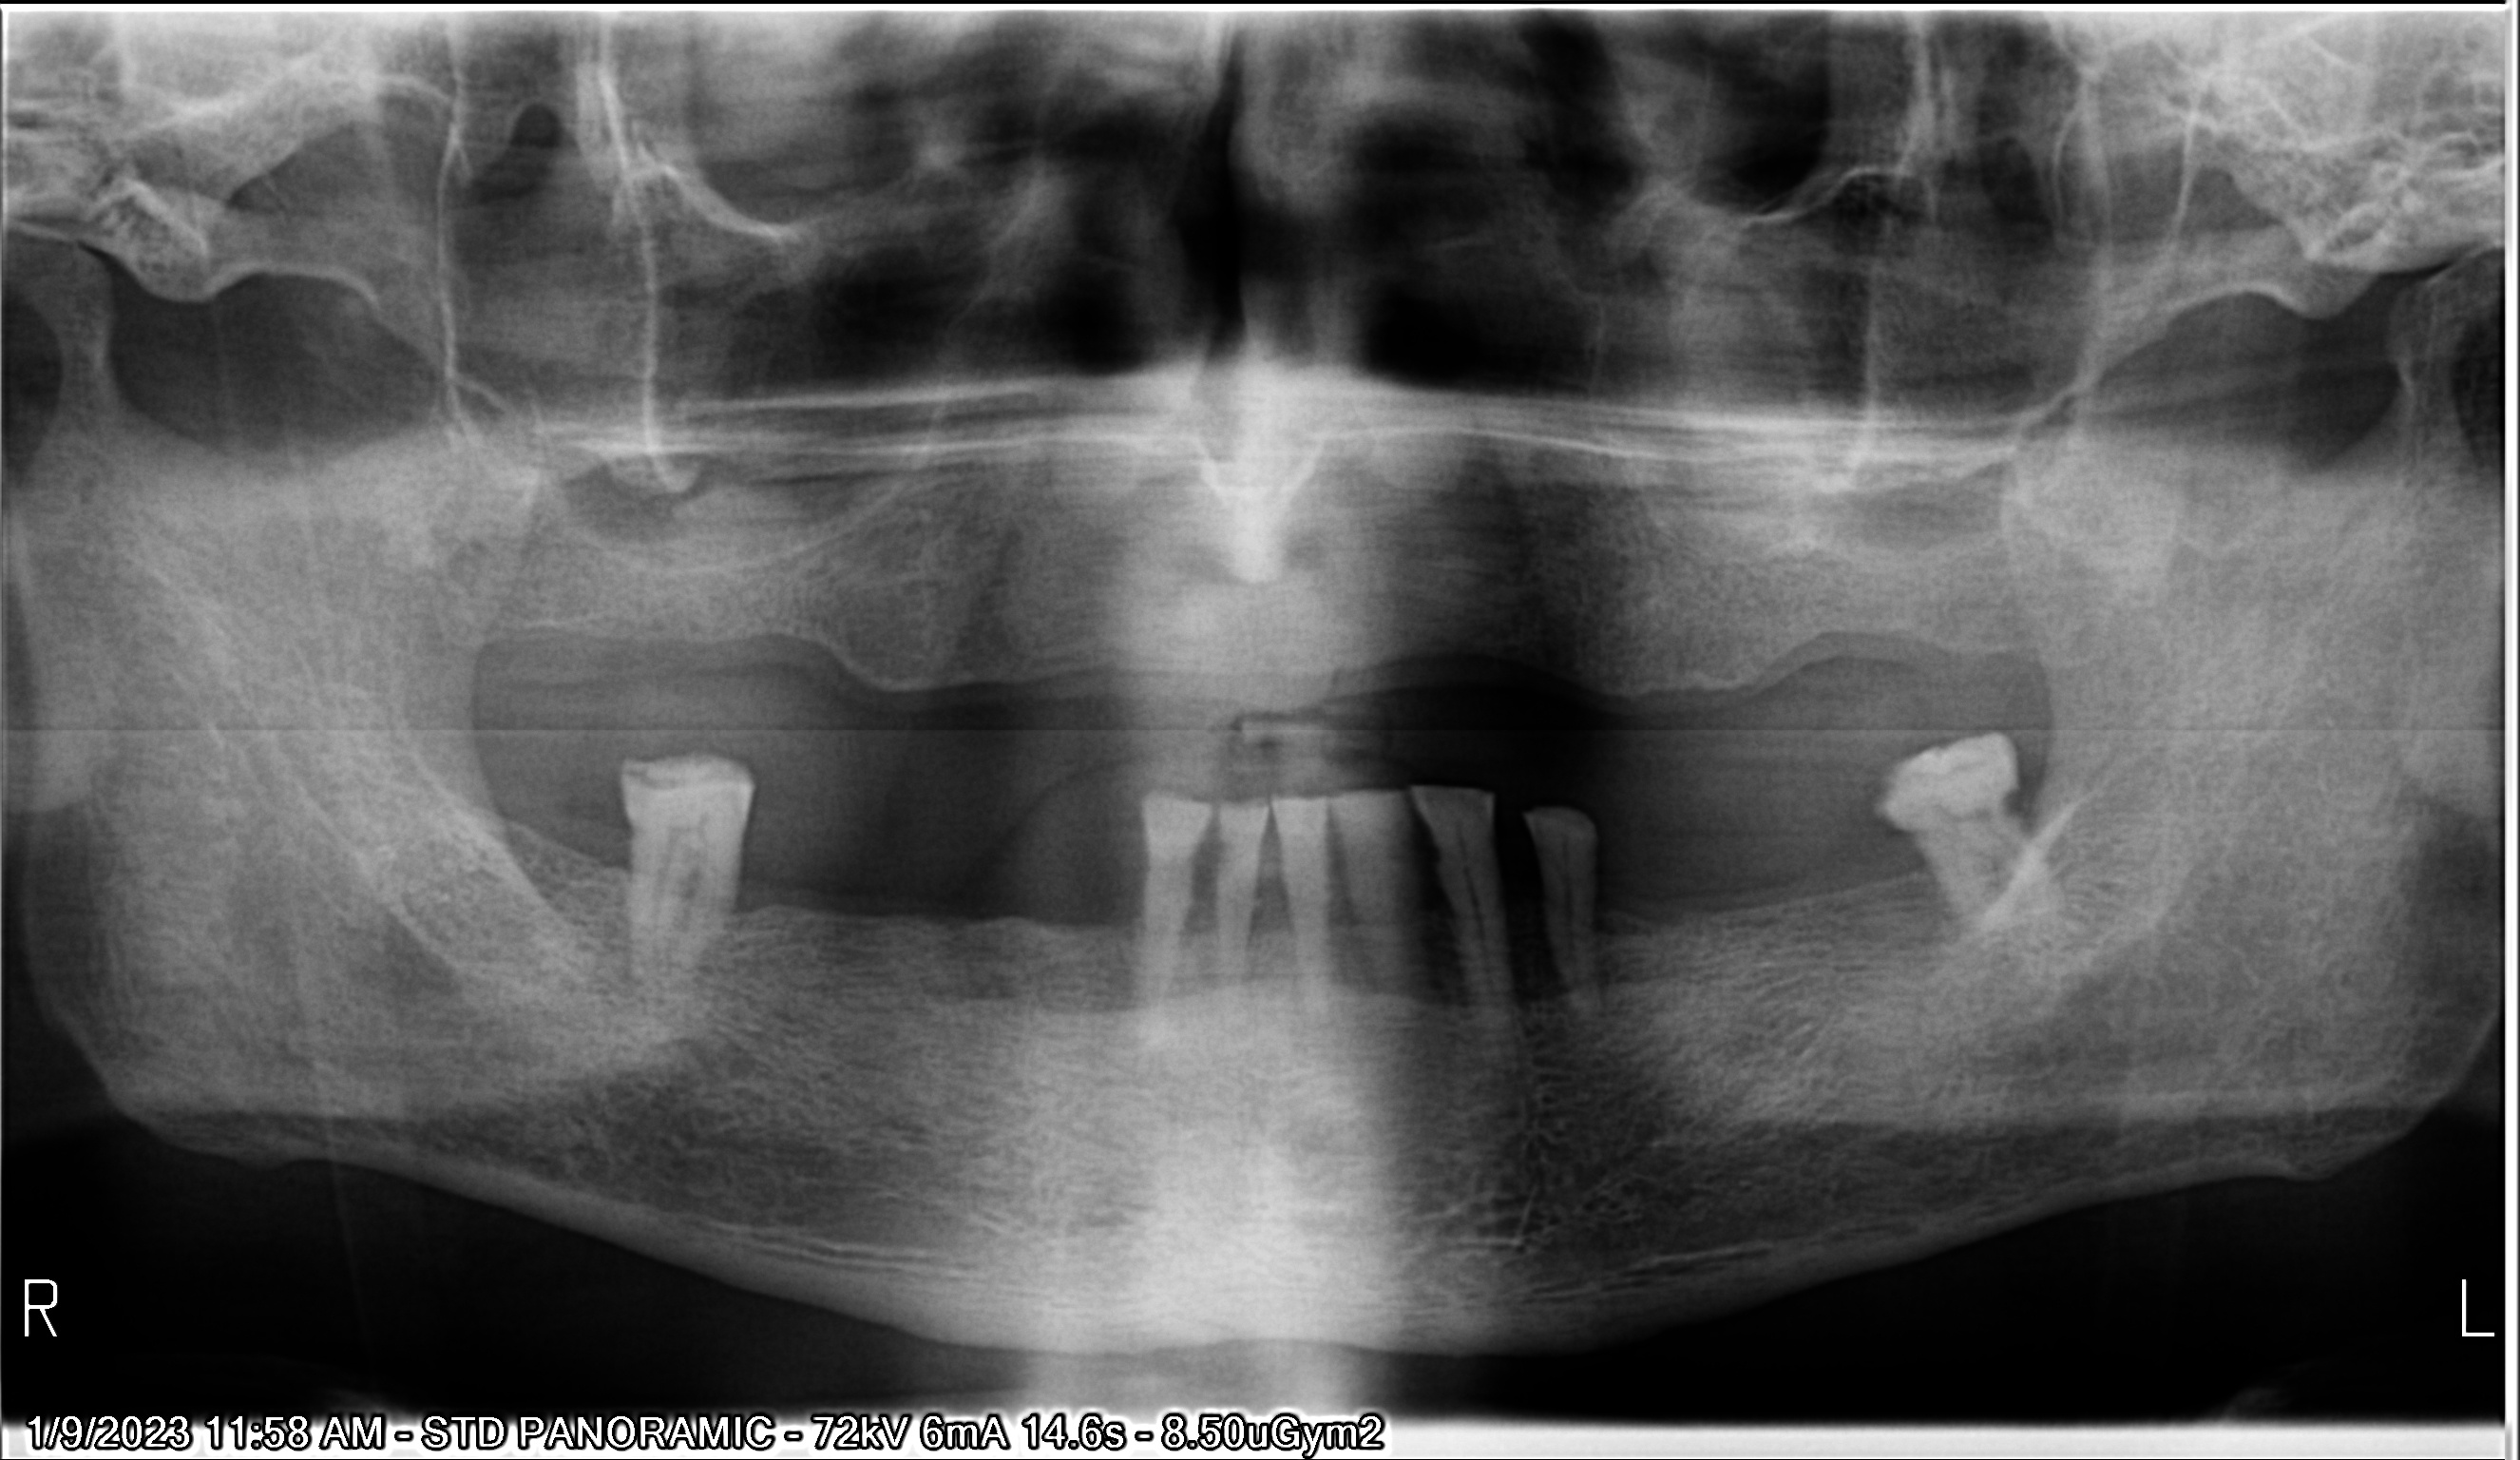BON: (1490, 871, 1570, 1005), (1400, 873, 1471, 989), (1244, 866, 1323, 963), (1320, 862, 1386, 977), (1172, 857, 1233, 968)
CAR: (1971, 758, 2056, 841)
FUR: (636, 843, 717, 916)
